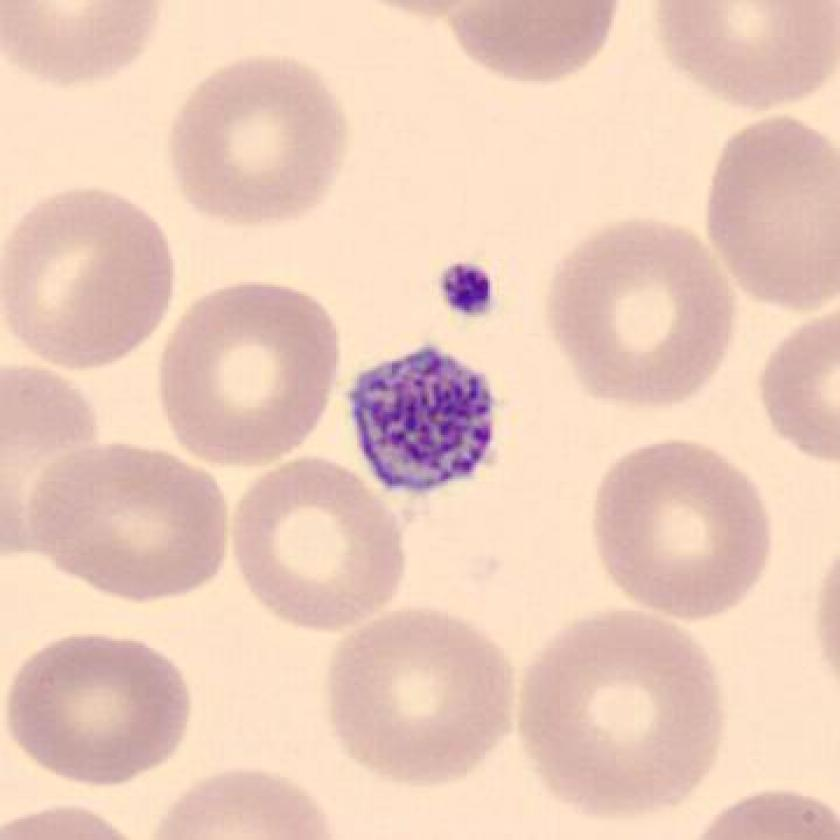platelets: (344, 337, 503, 506), (424, 247, 508, 337)
